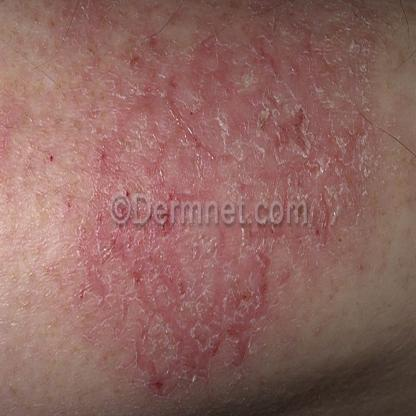Eczema: (110, 28, 393, 176), (80, 235, 297, 382)
